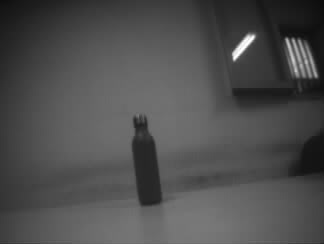Bottle: (130, 111, 163, 204)
